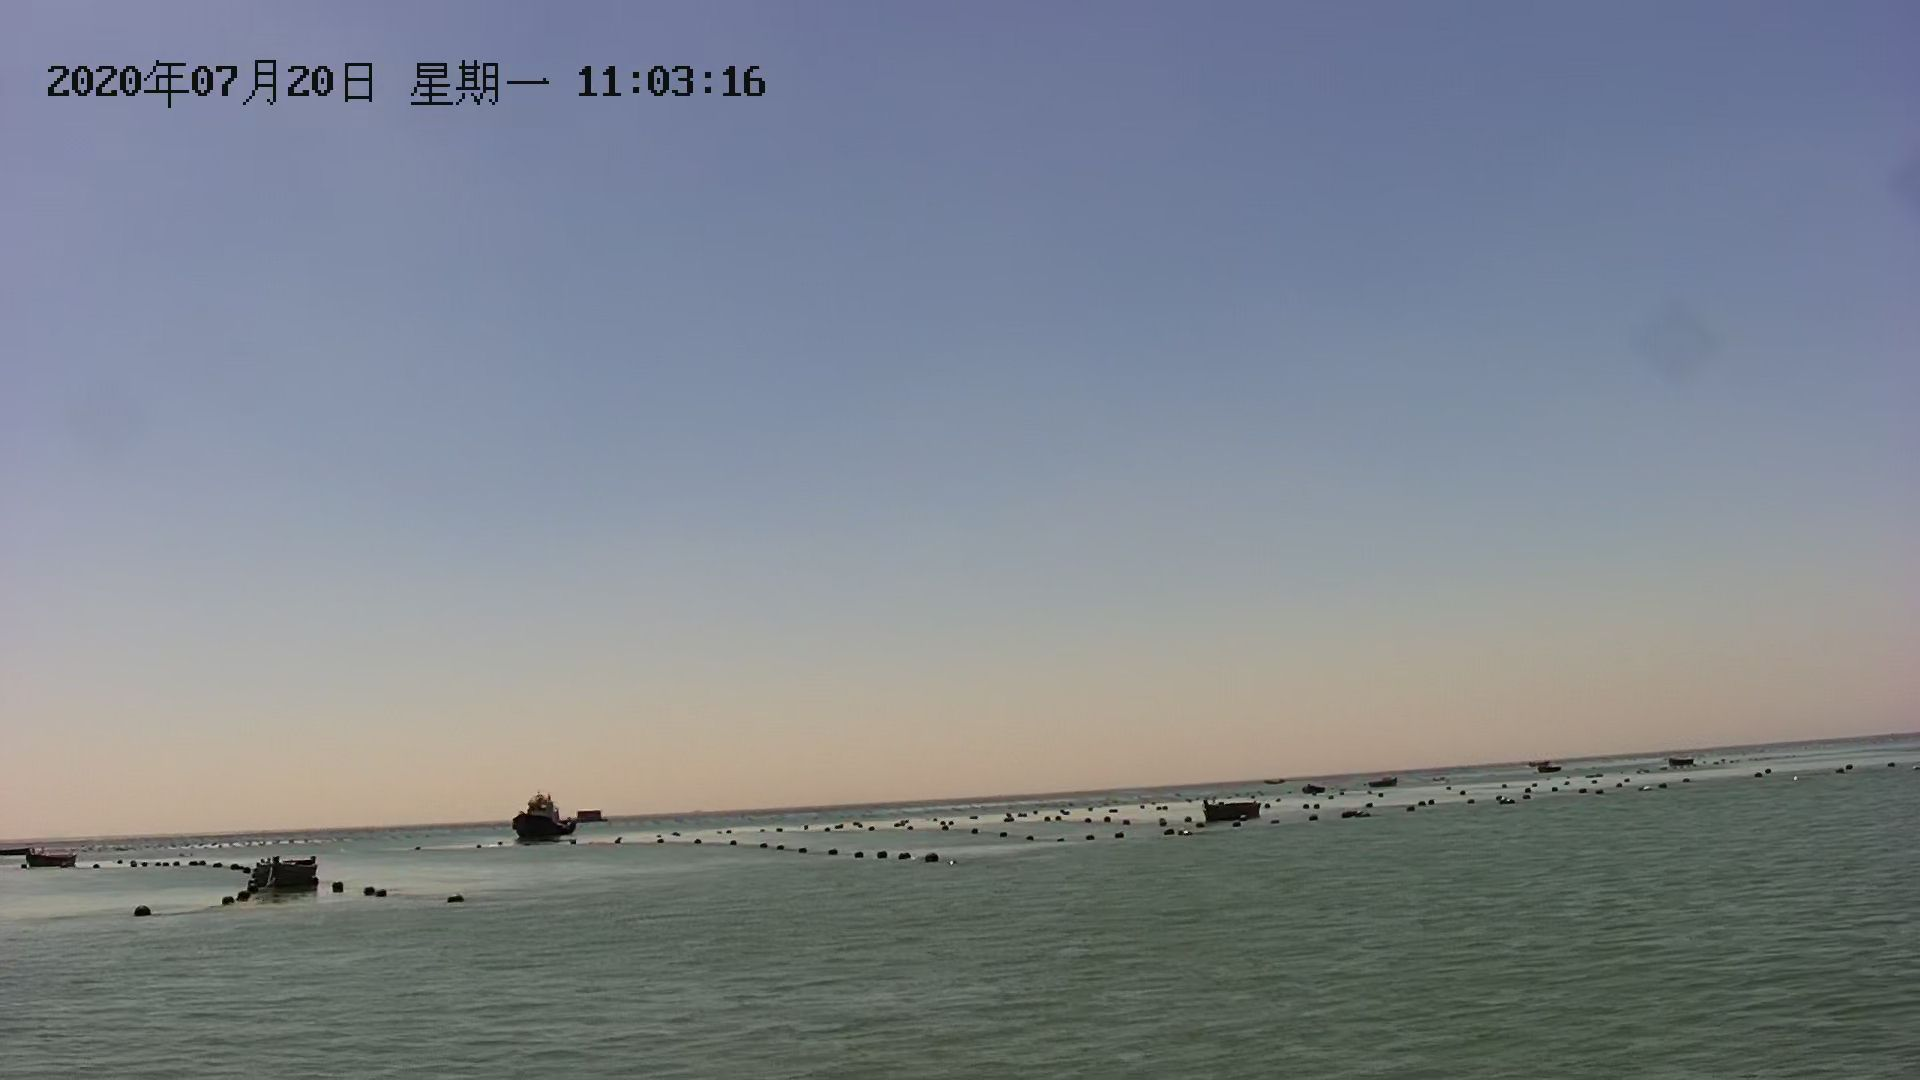ball: (439, 887, 473, 913), (121, 902, 162, 922), (919, 849, 947, 866), (368, 884, 392, 901)
boat: (233, 851, 340, 899), (1188, 793, 1262, 823), (16, 848, 80, 872)
platform: (567, 808, 615, 825)
ship: (505, 789, 582, 849)
